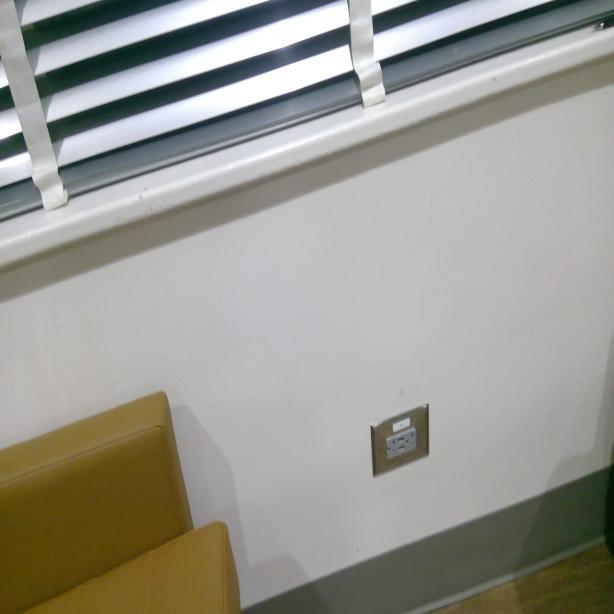typeb: (388, 436, 397, 460), (406, 432, 415, 453)
